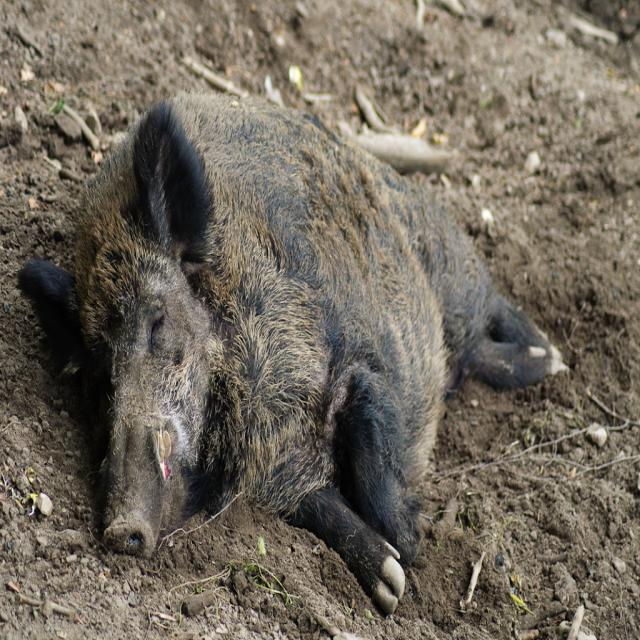Pig: (16, 84, 570, 616)
